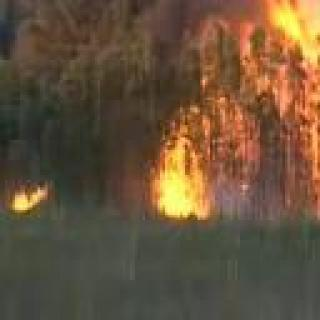fire: (264, 0, 320, 227), (145, 120, 221, 216), (10, 184, 47, 216)
